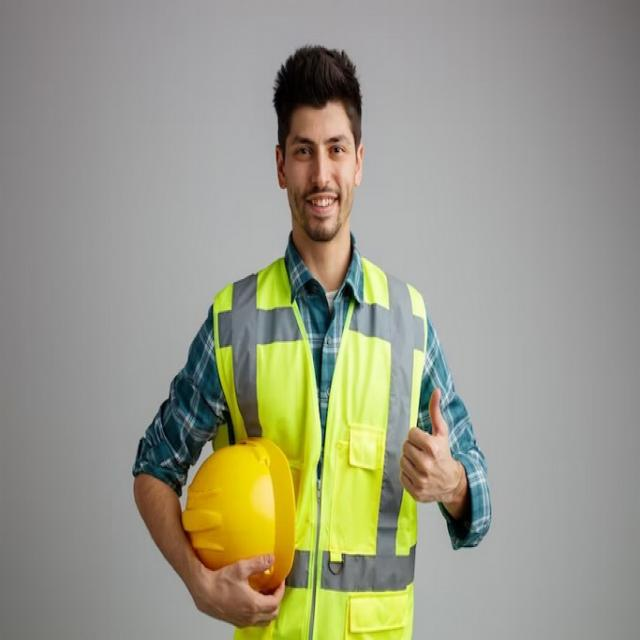nothing: (264, 44, 373, 149)
